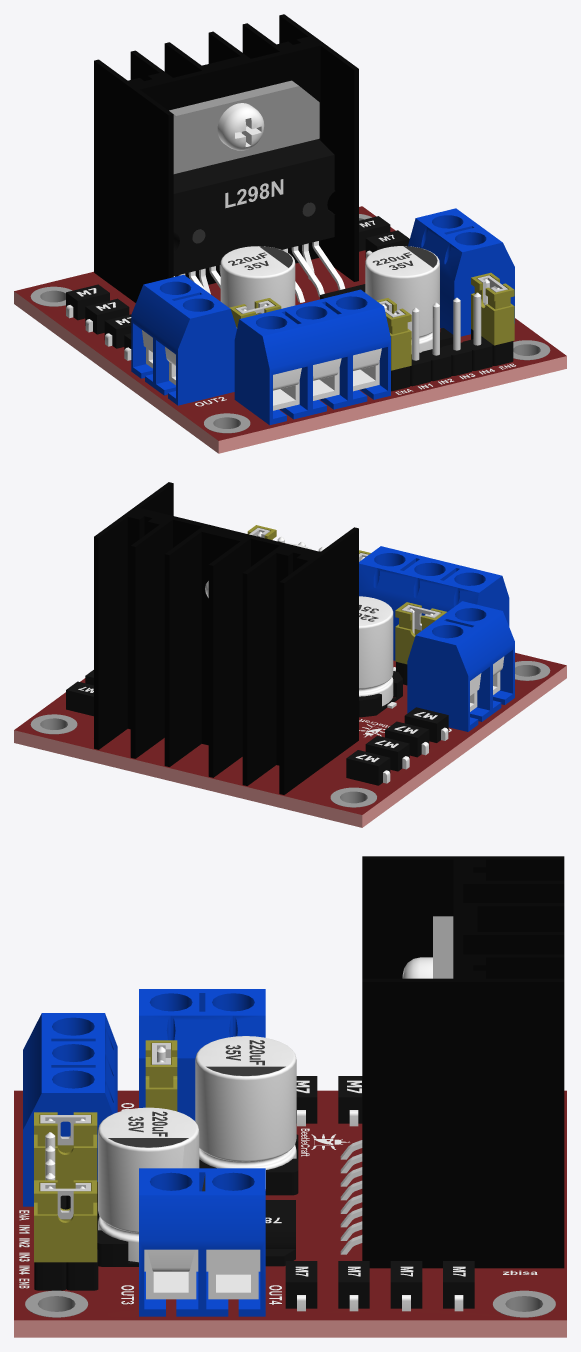
3 renders of one model, top to bottom at view 1: azimuth 30°, elevation 25°; view 2: azimuth 150°, elevation 25°; view 3: azimuth 270°, elevation 25°, orthographic. The views are drawn at different scales.
Visible parts, largest first — view 1: Metal_Preto-material, Bornes_Azuis-material, Chip_Preto-material, Metal_Claro-material, Metal_Opaco-material, Material_004-material, Material_009-material, Amarelo_001-material, Chip_Preto_Claro-material, Letras-material, Metal_004-material; view 2: Metal_Preto-material, Bornes_Azuis-material, Material_004-material, Material_009-material, Chip_Preto-material, Metal_Claro-material, Metal_Opaco-material, Amarelo_001-material, Letras-material, Metal_004-material; view 3: Metal_Preto-material, Bornes_Azuis-material, Metal_Claro-material, Material_004-material, Chip_Preto-material, Material_009-material, Amarelo_001-material, Metal_Opaco-material, Letras-material, Chip_Preto_Claro-material, Metal_004-material.
Part boxes in pixels (bbox=[...]): Metal_Preto-material: bbox=[94, 14, 358, 302]; Bornes_Azuis-material: bbox=[131, 208, 514, 425]; Chip_Preto-material: bbox=[66, 139, 513, 391]; Metal_Claro-material: bbox=[66, 103, 499, 410]; Metal_Opaco-material: bbox=[30, 80, 550, 433]; Material_004-material: bbox=[14, 206, 566, 440]; Material_009-material: bbox=[14, 291, 566, 453]; Amarelo_001-material: bbox=[229, 272, 514, 370]; Chip_Preto_Claro-material: bbox=[192, 202, 437, 269]; Letras-material: bbox=[76, 179, 515, 406]; Metal_004-material: bbox=[235, 275, 507, 317]; Metal_Preto-material: bbox=[94, 482, 358, 794]; Bornes_Azuis-material: bbox=[359, 546, 514, 731]; Material_004-material: bbox=[14, 652, 566, 814]; Material_009-material: bbox=[14, 665, 566, 827]; Chip_Preto-material: bbox=[66, 661, 448, 785]; Metal_Claro-material: bbox=[205, 531, 504, 783]; Metal_Opaco-material: bbox=[30, 661, 550, 807]; Amarelo_001-material: bbox=[247, 525, 446, 664]; Letras-material: bbox=[78, 687, 451, 762]; Metal_004-material: bbox=[249, 527, 440, 631]; Metal_Preto-material: bbox=[362, 856, 564, 1268]; Bornes_Azuis-material: bbox=[23, 989, 265, 1316]; Metal_Claro-material: bbox=[45, 957, 463, 1311]; Material_004-material: bbox=[14, 1090, 566, 1320]; Chip_Preto-material: bbox=[34, 1076, 474, 1308]; Material_009-material: bbox=[14, 1320, 566, 1337]; Amarelo_001-material: bbox=[34, 1040, 177, 1262]; Metal_Opaco-material: bbox=[25, 916, 555, 1317]; Letras-material: bbox=[19, 1080, 537, 1304]; Chip_Preto_Claro-material: bbox=[108, 1040, 285, 1191]; Metal_004-material: bbox=[40, 1043, 170, 1219].
Bounding box in the file's own units: 0.043 × 0.0272 × 0.0437.
